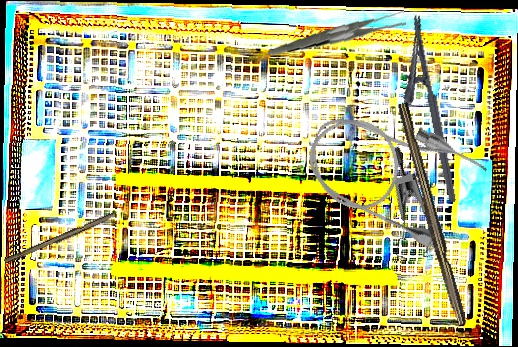Cannula: (293, 90, 492, 256)
Dressing Forceps: (268, 1, 407, 65)
Needle Holder: (387, 13, 458, 208)
Scalpel Handle: (390, 102, 471, 327), (3, 209, 118, 268)
Speculum: (351, 144, 453, 272)
